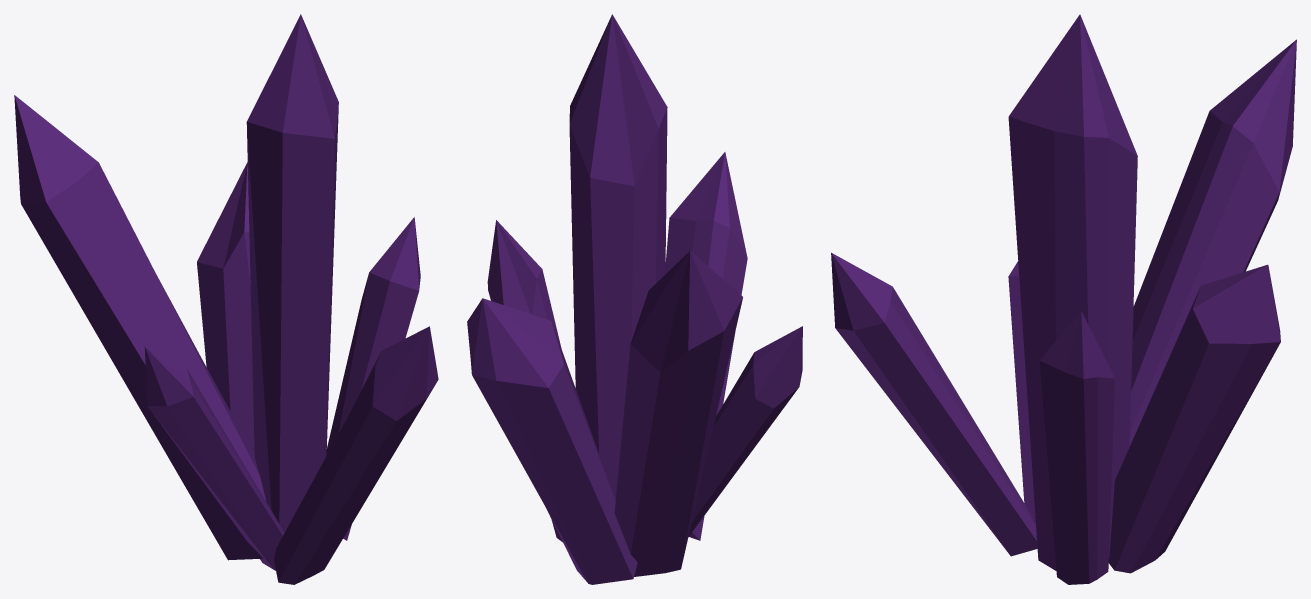
Rendered from Crystall.fbx.
3 views of the same model, side by side, from view 1: azimuth 30°, elevation 25°; view 2: azimuth 150°, elevation 25°; view 3: azimuth 270°, elevation 25° (orthographic). The views are drawn at different scales.
Visible parts, largest first — view 1: Plane; view 2: Plane; view 3: Plane.
Part boxes in pixels (left/top/right/bottom): Plane: left=14, top=14, right=438, bottom=584; Plane: left=467, top=14, right=802, bottom=584; Plane: left=831, top=14, right=1296, bottom=584.
Size of the model in its own units: 205 by 332 by 252.
